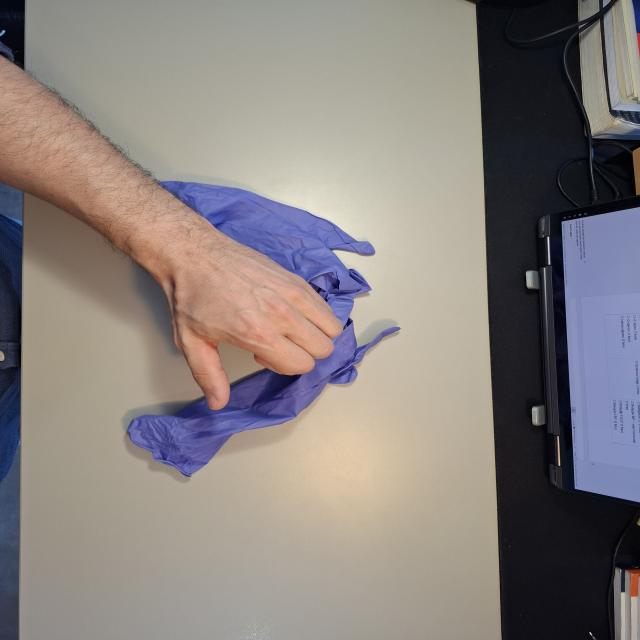glove_off: (140, 226, 347, 412)
